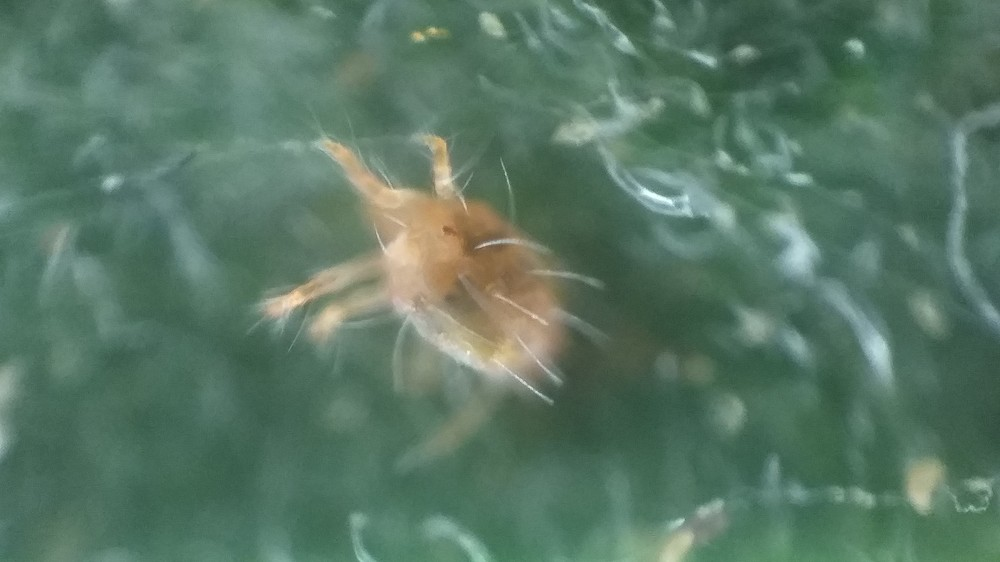Aracnido Rojo: (252, 115, 650, 471)
